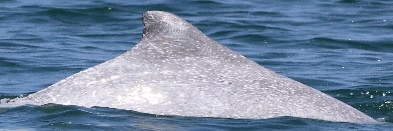fin: (15, 6, 385, 127)
